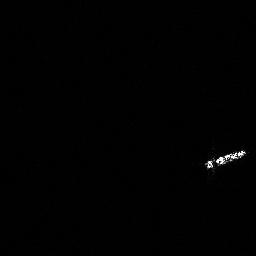ship: (202, 146, 248, 172)
